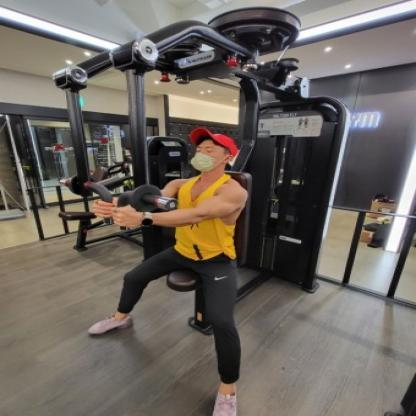chest fly machine: (37, 4, 350, 416)
